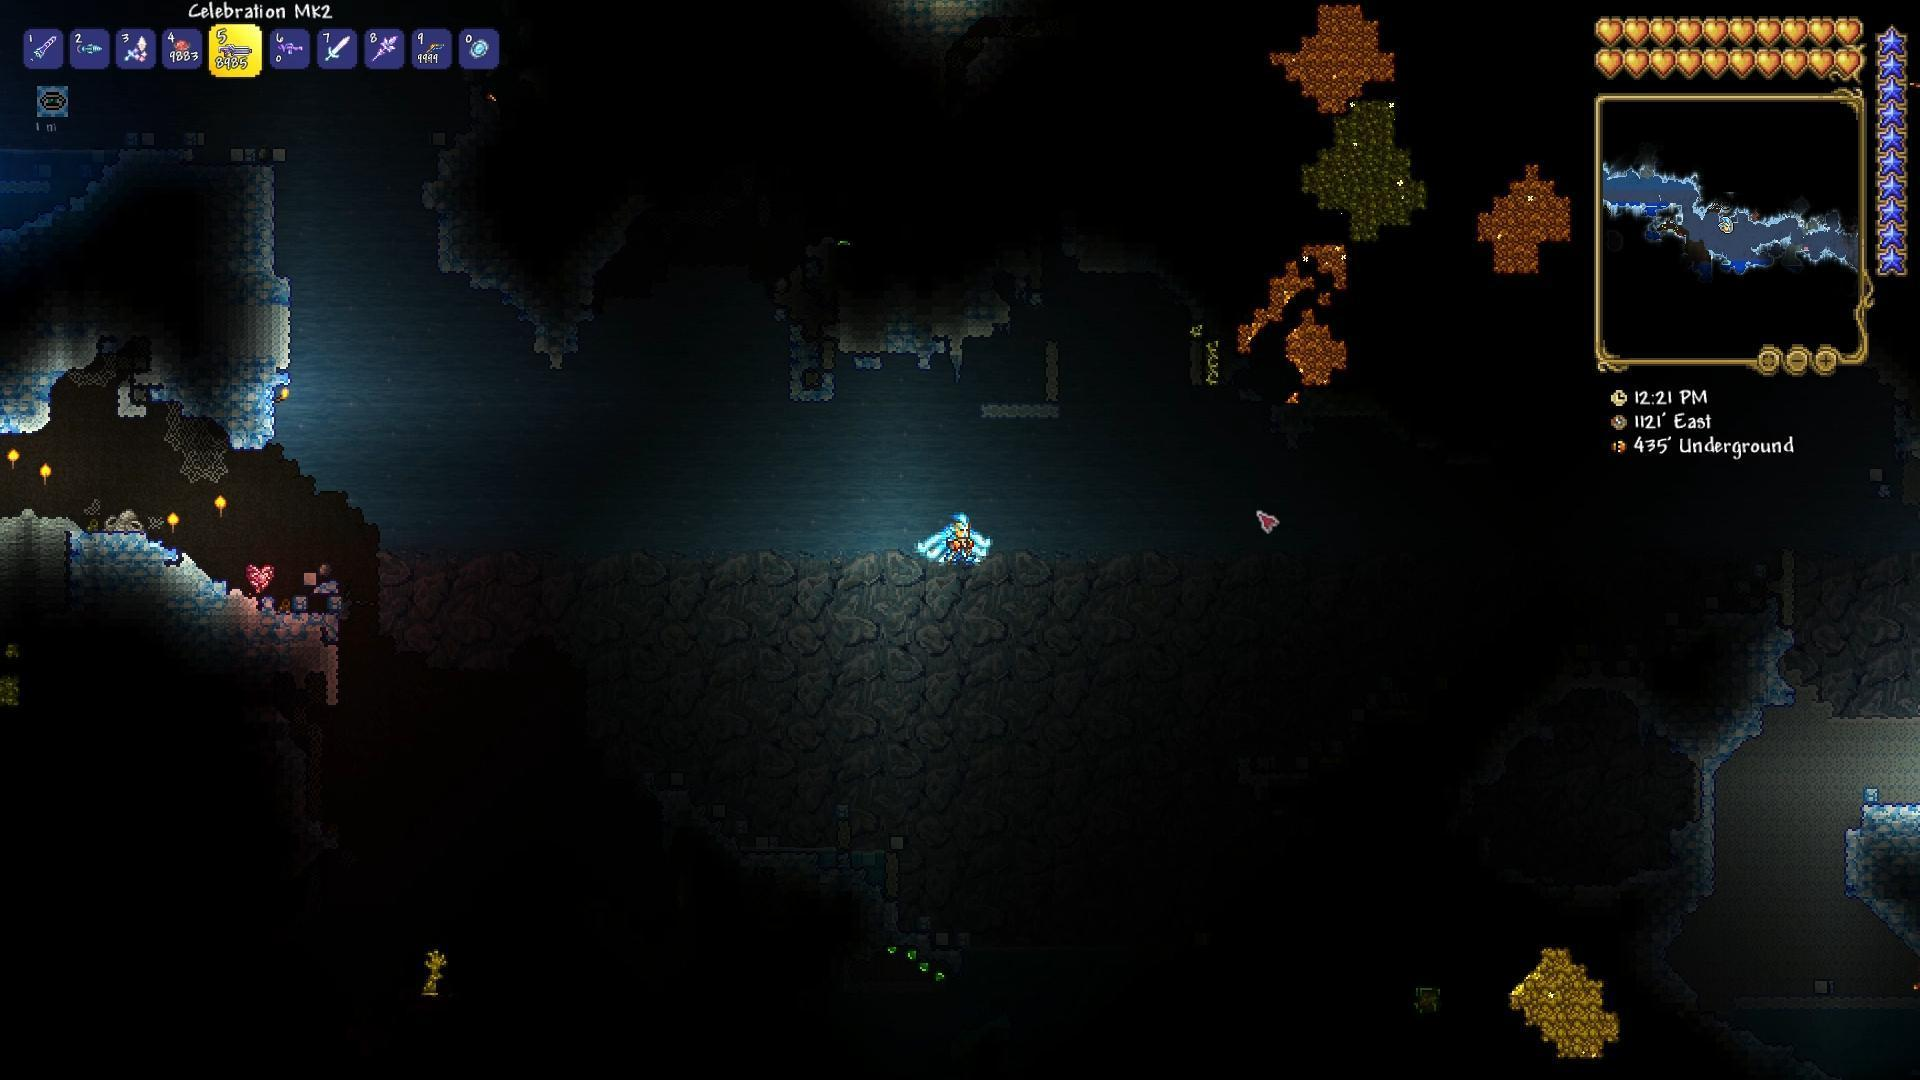lifeC: (240, 558, 280, 601)
